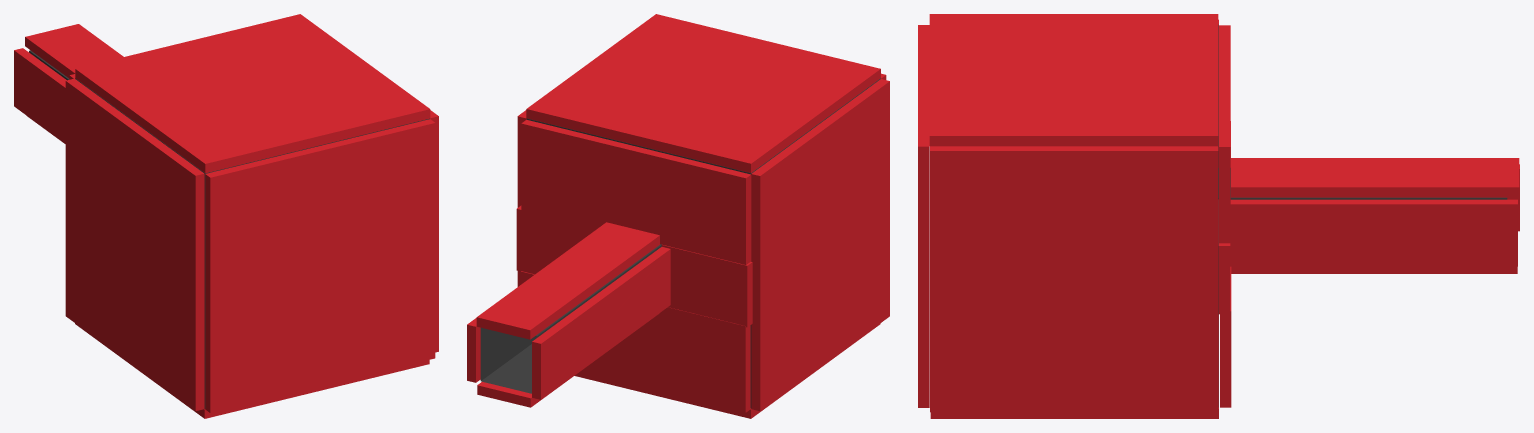
File: cubicalCavern.fbx
The picture shows the model from 3 angles, left to right: view 1: azimuth 30°, elevation 25°; view 2: azimuth 150°, elevation 25°; view 3: azimuth 270°, elevation 25°; orthographic projection. The views are drawn at different scales.
Visible parts, largest first — view 1: Cube.005, Cube.003, Cube.001, Cube.012, Cube.010, Cube.002, Cube, Cube.004; view 2: Cube.003, Cube.001, Cube.006, Cube.007, Cube.012, Cube.010, Cube.008, Cube, Cube.009, Cube.002, Cube.011, Cube.013 (+1 smaller); view 3: Cube.004, Cube.001, Cube.013, Cube.010, Cube.005, Cube.006, Cube.011, Cube.002, Cube, Cube.007, Cube.009.
Part boxes in pixels (x1,y1,x2,y2): Cube.005: (205,119,435,413); Cube.003: (65,78,204,411); Cube.001: (75,14,430,173); Cube.012: (14,48,66,143); Cube.010: (25,24,123,78); Cube.002: (75,323,429,418); Cube: (29,50,429,408); Cube.004: (430,110,438,352); Cube.003: (751,79,889,411); Cube.001: (526,14,880,172); Cube.006: (521,119,751,264); Cube.007: (520,271,750,412); Cube.012: (532,247,670,399); Cube.010: (476,222,659,339); Cube.008: (661,244,752,327); Cube: (480,78,880,408); Cube.009: (516,205,596,274); Cube.002: (574,323,880,418); Cube.011: (477,313,659,407); Cube.013: (467,318,480,382); Cube.004: (930,146,1218,412); Cube.001: (929,14,1218,146); Cube.013: (1230,199,1517,266); Cube.010: (1231,158,1519,197); Cube.005: (918,25,929,407); Cube.006: (1219,25,1230,243); Cube.011: (1231,266,1517,273); Cube.002: (930,314,1218,418); Cube: (1218,24,1507,407); Cube.007: (1220,266,1231,407); Cube.009: (1218,199,1230,314).
Size of the model in its own units: 10809 by 10837 by 20867.
